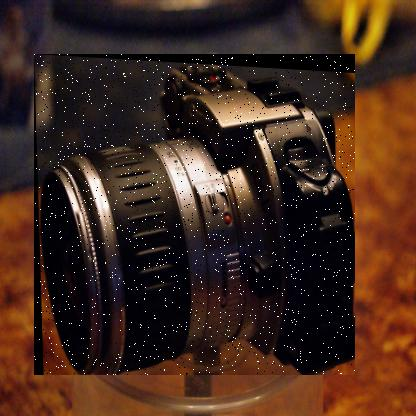Camera: (35, 55, 357, 377)
